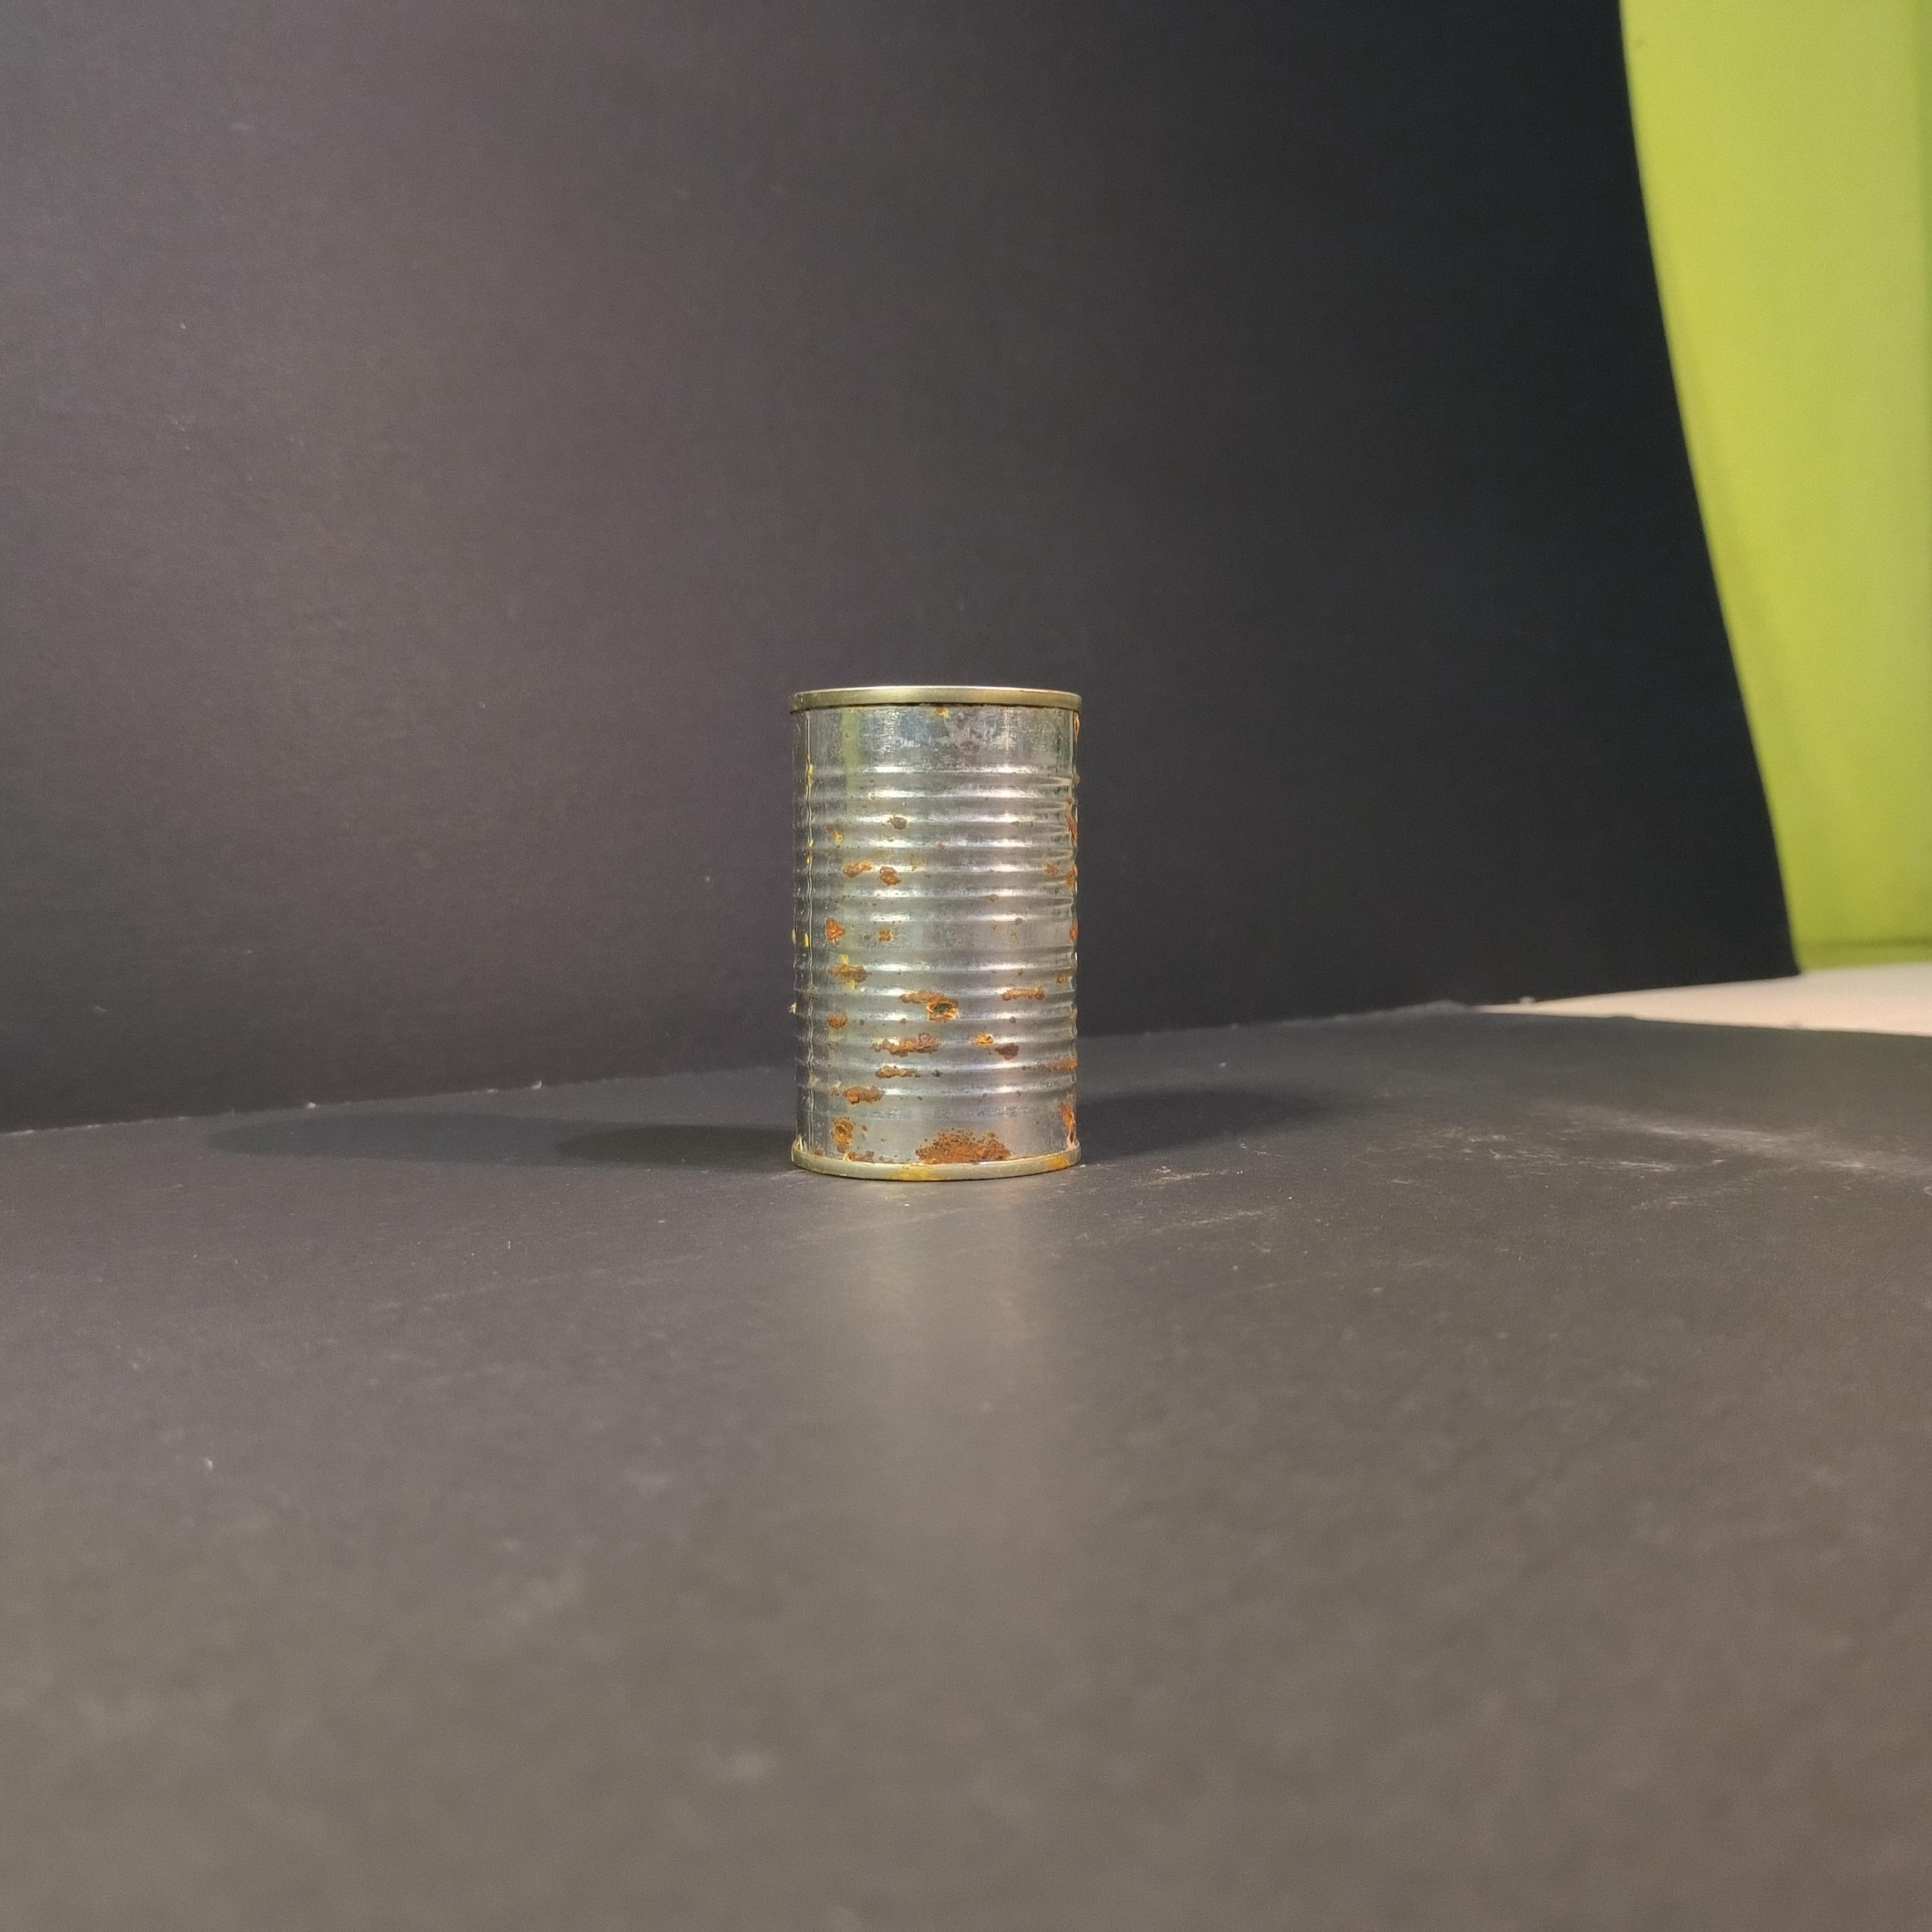Rusted: (759, 646, 1108, 1182)
